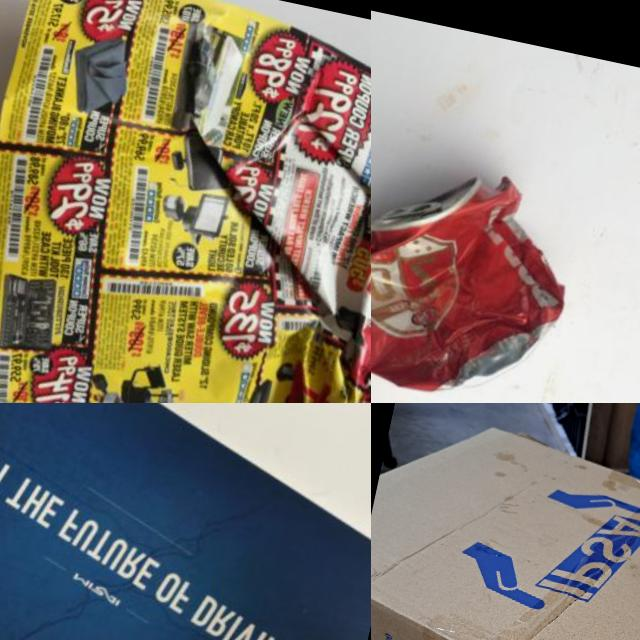aba de lata: (371, 151, 484, 252)
lata: (371, 136, 589, 403)
papel: (0, 0, 371, 403), (0, 403, 371, 640)
papelão: (371, 403, 640, 640)
